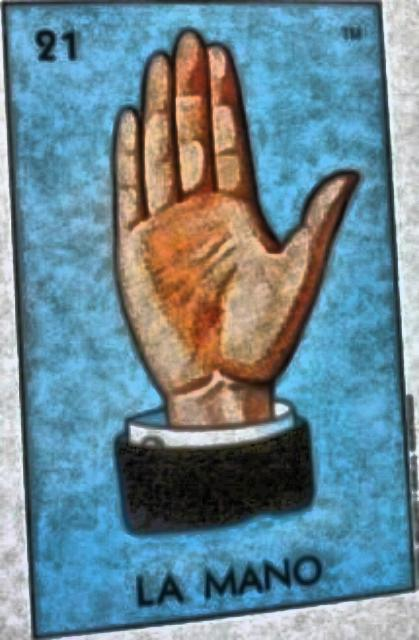La Mano: (5, 7, 418, 638)
